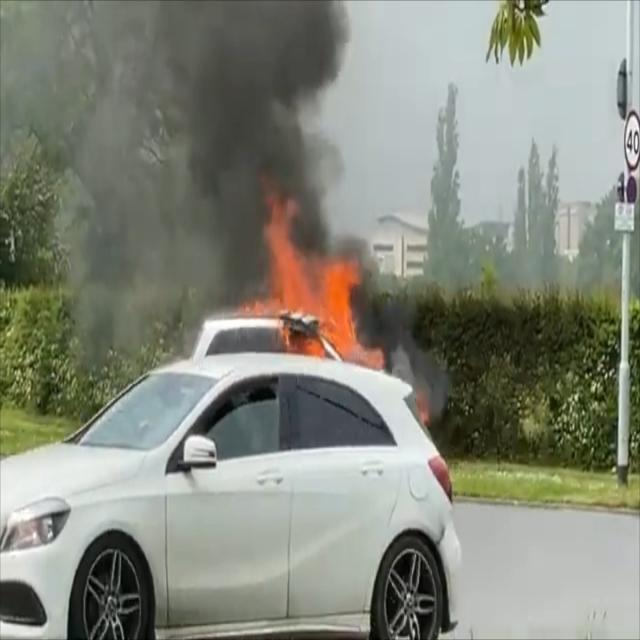fire: (237, 172, 377, 370)
